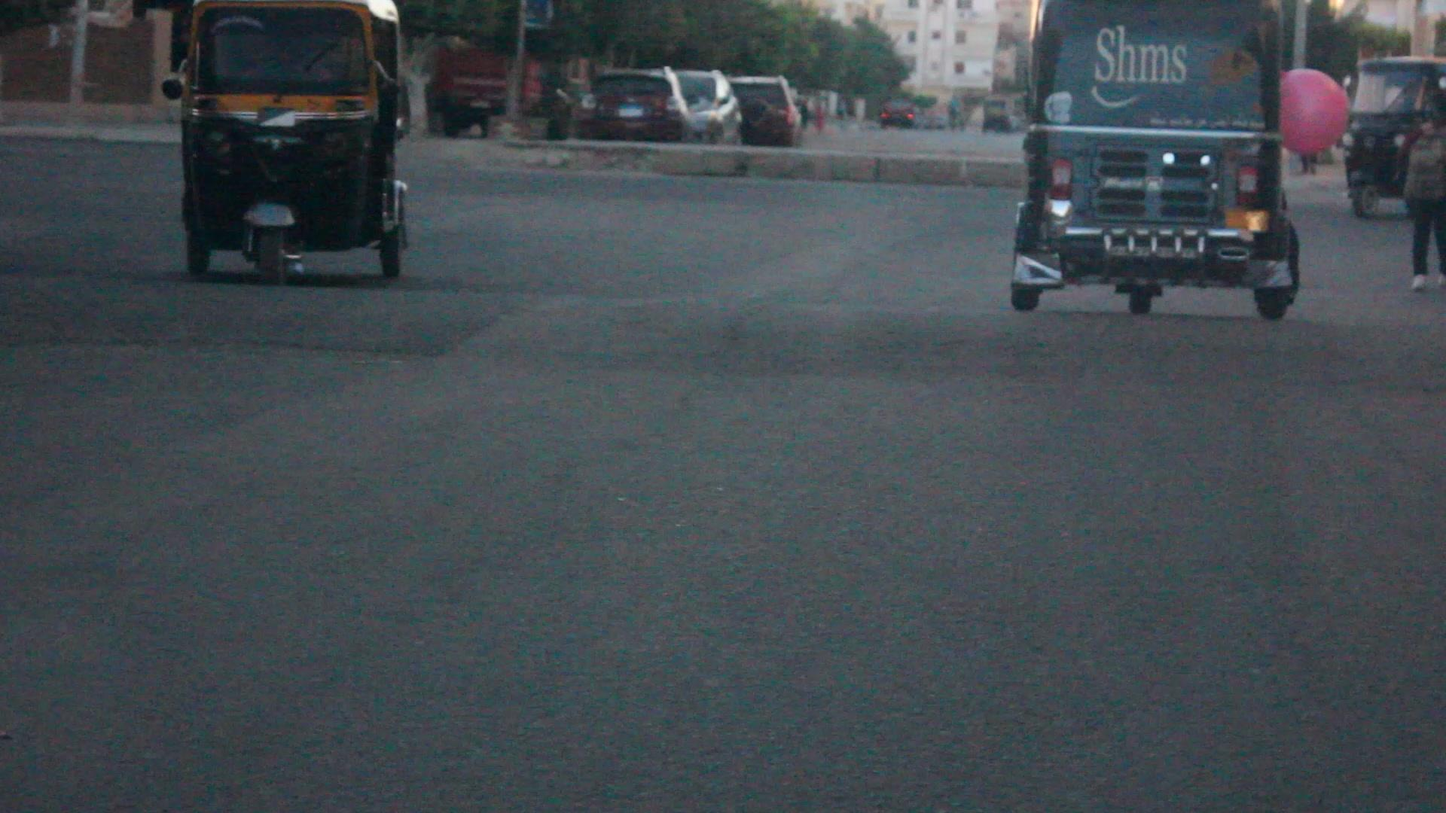Bump: (19, 284, 1445, 405)
